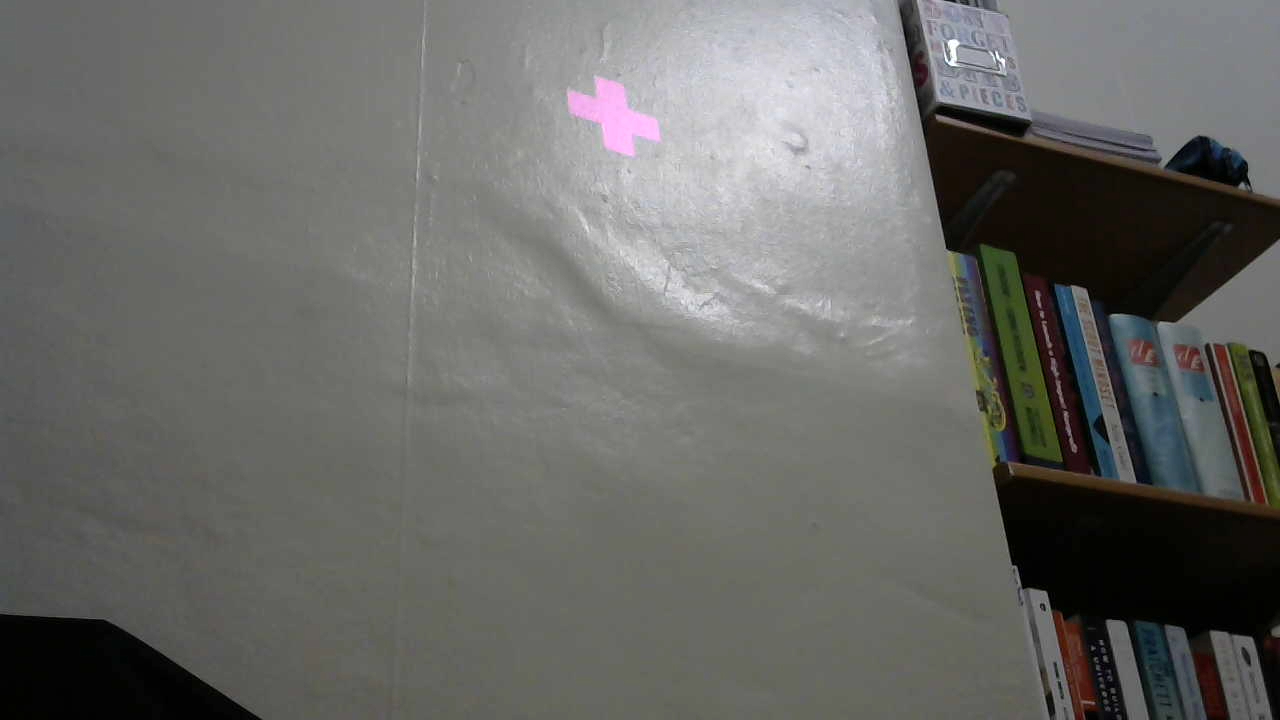calibration_symbol: (566, 74, 662, 155)
